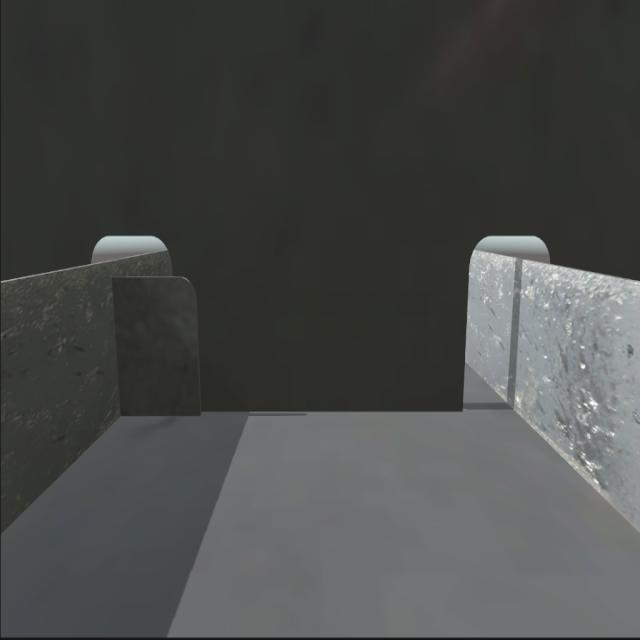fillet_yong_jeop_jang: (119, 399, 482, 422)
longi_yong_jeop_jang: (110, 276, 129, 422)
plate_CP05: (114, 274, 202, 418)
